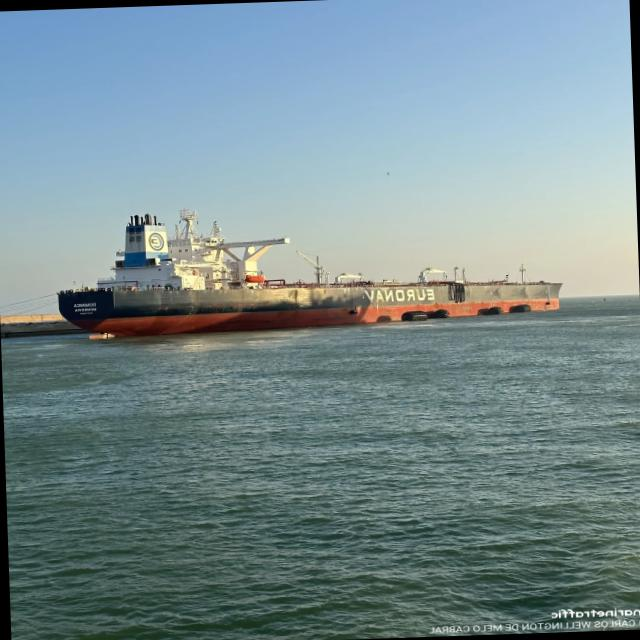Tanker: (58, 209, 561, 335)
